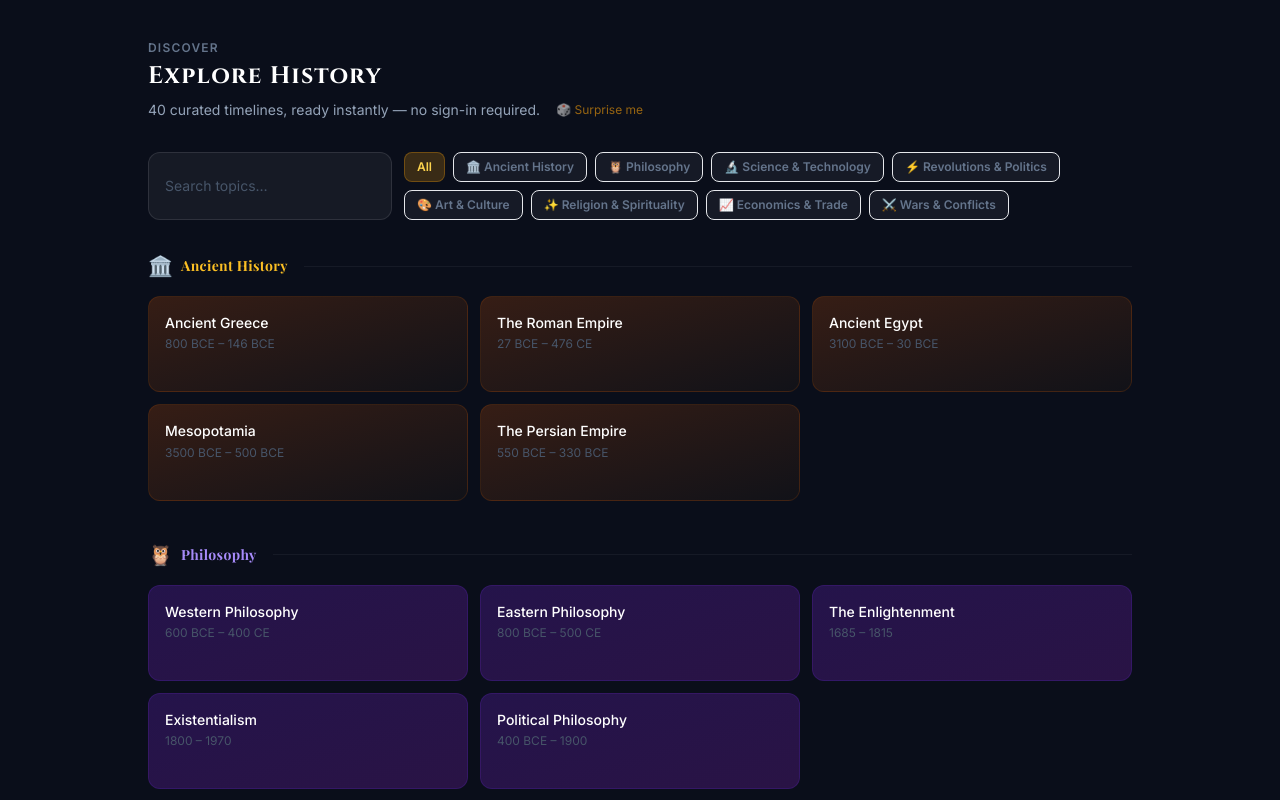
Test case: Discover › filters by category chip
Click the button "🦉 Philosophy" at [649, 167], box [595,152,703,182]
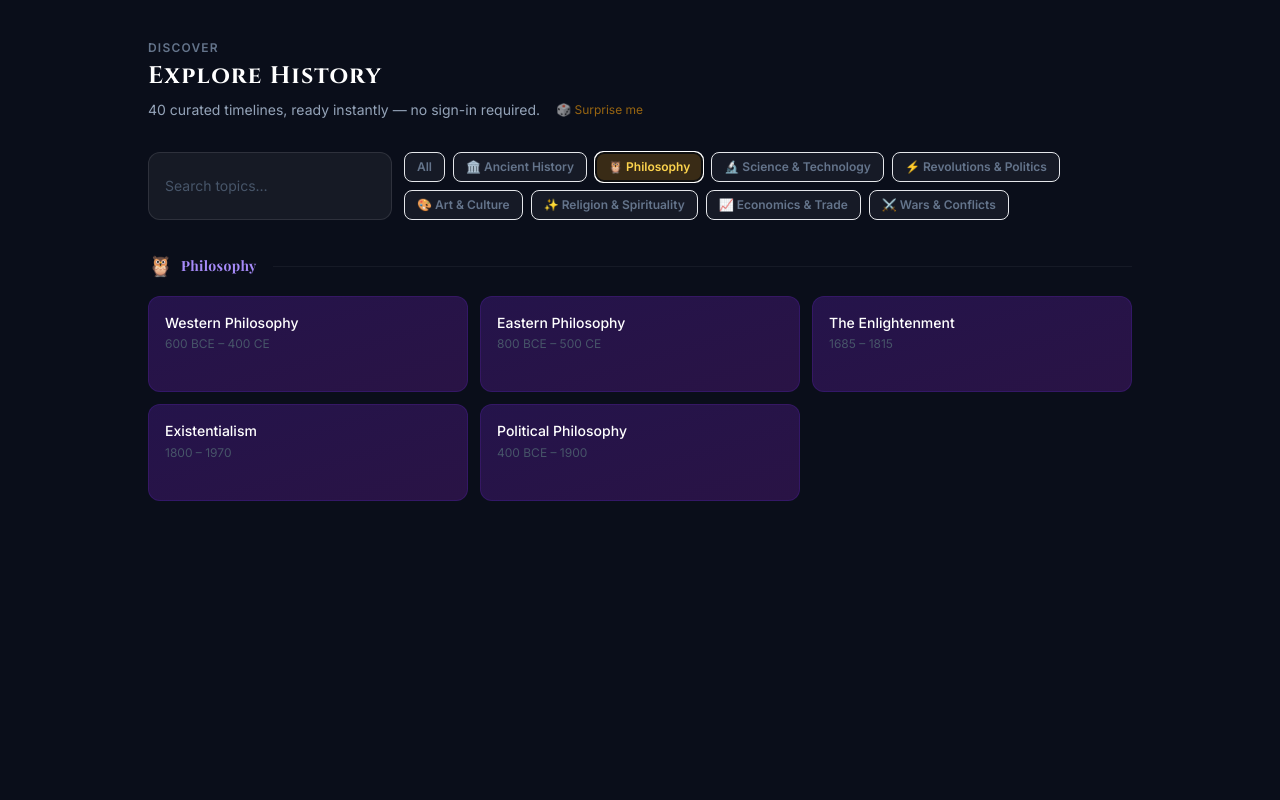
Expected: the text "Western Philosophy" is shown, [165,314,298,331]
Expected: the button "Ancient Greece" is gone
